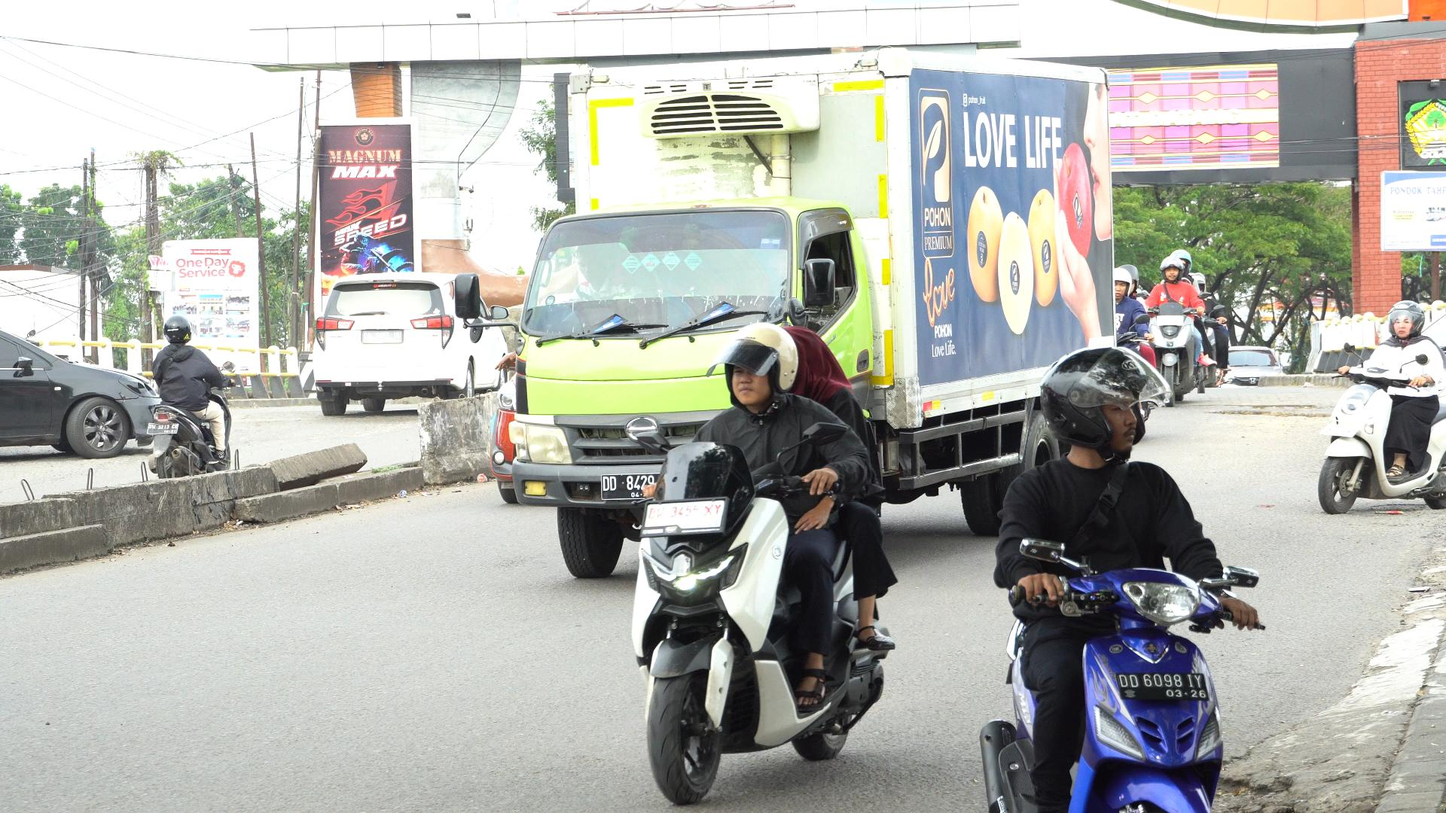number-plate: (1112, 666, 1212, 706), (639, 502, 729, 535)
